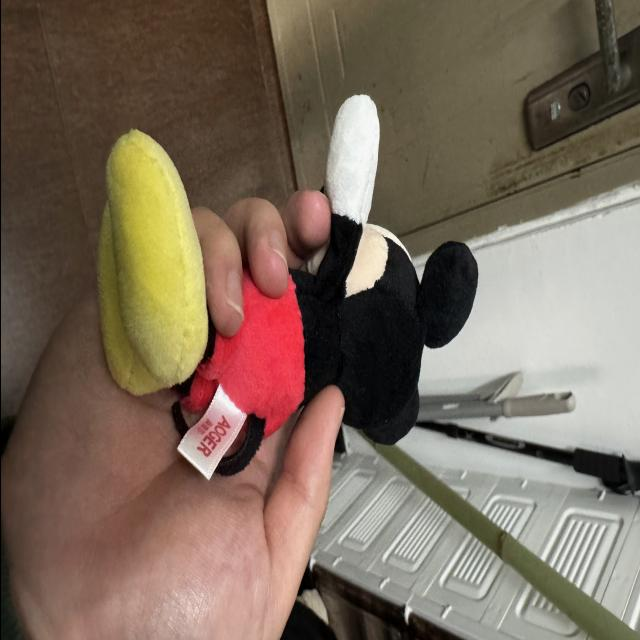mickey: (99, 96, 476, 474)
